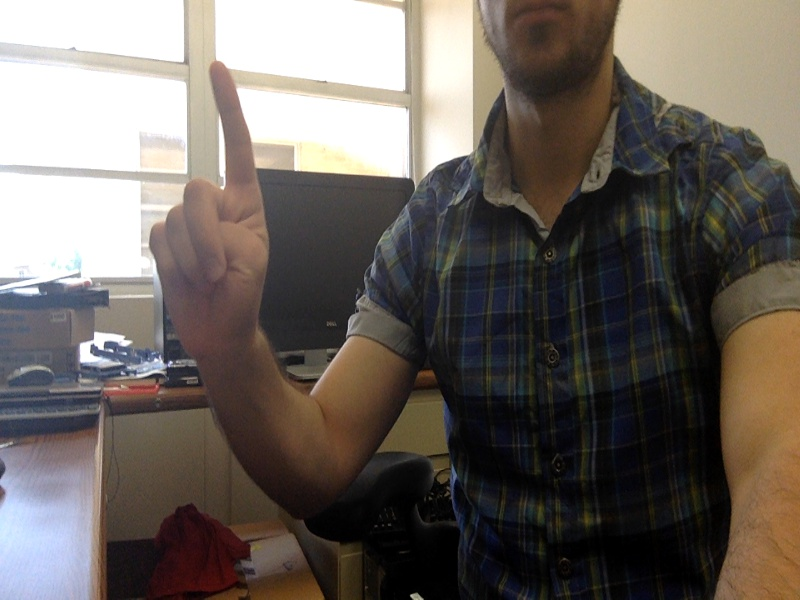1-hand: (147, 61, 269, 351)
